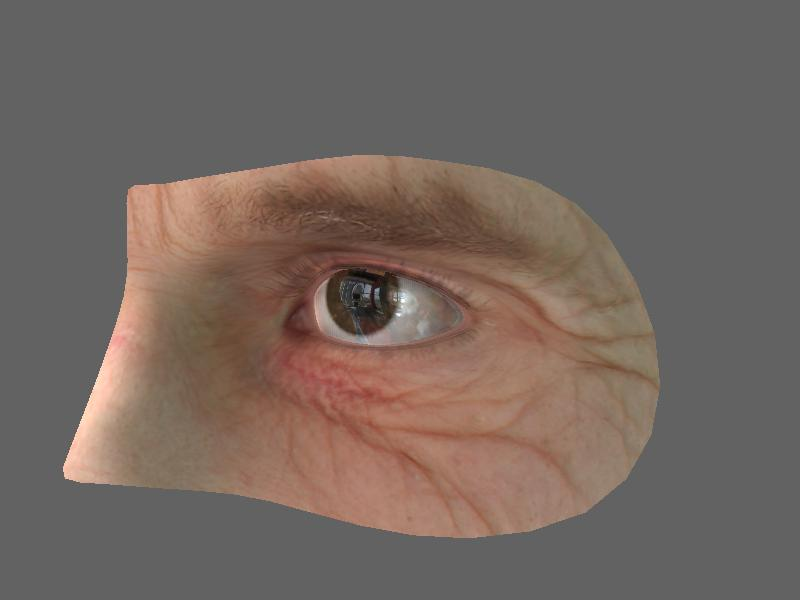iris: (325, 269, 427, 330)
